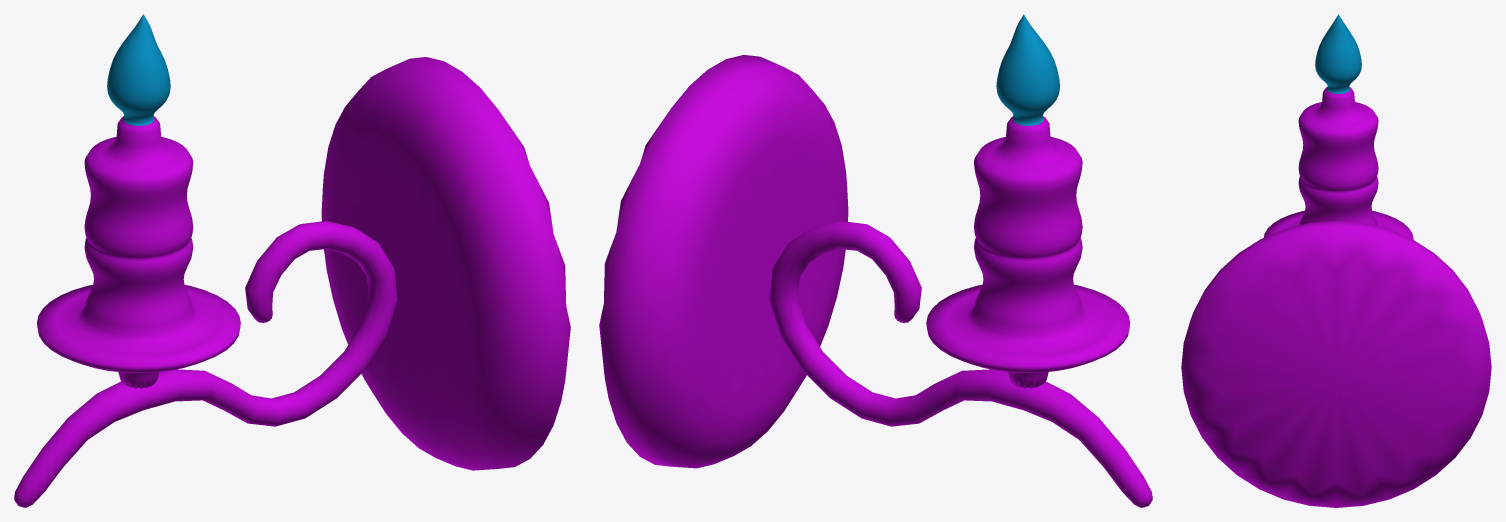
The model's file is candle.fbx.
3 views of the same model, side by side, from view 1: azimuth 30°, elevation 25°; view 2: azimuth 150°, elevation 25°; view 3: azimuth 270°, elevation 25° (orthographic). The views are drawn at different scales.
Parts seen in each view (by area): view 1: Line010; view 2: Line010; view 3: Line010.
Part boxes in pixels (<box>): Line010: <box>14,14,570,507</box>; Line010: <box>599,14,1152,507</box>; Line010: <box>1181,14,1491,507</box>.
Bounding box in the file's own units: 9.68 × 10.1 × 7.48.
